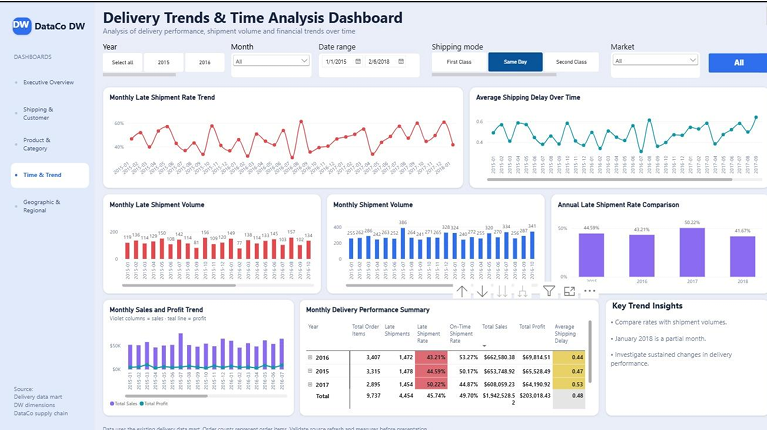

The dashboard page shown, as its layout file describes it:
{"tool":"powerbi","page":{"name":"Time & Trend","canvas":[1920,1080],"ordinal":3},"visuals":[{"type":"textbox","box":[0,0,240,1080],"z":0},{"type":"textbox","box":[38,44,48,45],"z":1000},{"type":"textbox","box":[92,48,136,42],"z":2000},{"type":"textbox","box":[42,130,180,30],"z":3000},{"type":"textbox","box":[42,944,174,95],"z":4000},{"type":"textbox","box":[260,18,1640,46],"z":5000},{"type":"textbox","box":[260,65,1640,25],"z":6000},{"type":"textbox","box":[260,1045,1640,24],"z":7000},{"type":"lineChart","title":"Monthly Late Shipment Rate Trend","fields":{"Category":["DW DimDate.Year Month"],"Y":["DM FactDeliveryPerformance.Late Shipment Rate"]},"box":[260.6,215.3,886.7,247.9],"z":13000},{"type":"lineChart","title":"Average Shipping Delay Over Time","fields":{"Category":["DW DimDate.Year Month"],"Y":["DM FactDeliveryPerformance.Average Shipping Delay"]},"box":[1161.8,215.3,738.3,247.9],"z":14000},{"type":"clusteredColumnChart","title":"Monthly Late Shipment Volume","fields":{"Category":["DW DimDate.Year Month"],"Y":["DM FactDeliveryPerformance.Late Shipments"]},"box":[260.6,477.8,537,245],"z":15000},{"type":"clusteredColumnChart","title":"Monthly Shipment Volume","fields":{"Category":["DW DimDate.Year Month"],"Y":["DM FactDeliveryPerformance.Total Order Items"]},"box":[810.7,477.8,537,245],"z":16000},{"type":"columnChart","title":"Annual Late Shipment Rate Comparison","fields":{"Category":["DW DimDate.Year"],"Y":["DM FactDeliveryPerformance.Late Shipment Rate"]},"box":[1362.7,477.8,538,245],"z":17000},{"type":"lineClusteredColumnComboChart","title":"Monthly Sales and Profit Trend","fields":{"Category":["DW DimDate.Year Month"],"Y":["DM FactDeliveryPerformance.Total Sales"],"Y2":["DM FactDeliveryPerformance.Total Profit"]},"box":[260.6,736.5,470.5,285.9],"z":18000},{"type":"pivotTable","title":"Monthly Delivery Performance Summary","fields":{"Rows":["DW DimDate.Year","DW DimDate.Year Month"],"Values":["DM FactDeliveryPerformance.Total Order Items","DM FactDeliveryPerformance.Late Shipments","DM FactDeliveryPerformance.Late Shipment Rate","DM FactDeliveryPerformance.On-Time Shipment Rate","DM FactDeliveryPerformance.Total Sales","DM FactDeliveryPerformance.Total Profit","DM FactDeliveryPerformance.Average Shipping Delay"]},"box":[743.8,736.5,736.5,285.9],"z":19000},{"type":"textbox","box":[1496.6,736.5,403.6,285.9],"z":20000},{"type":"textbox","box":[1509.3,780,372.8,231.6],"z":21000},{"type":"textbox","box":[34,402,192,61],"z":22000},{"type":"textbox","box":[65,191,165,48],"z":23000},{"type":"textbox","box":[65,258,165,48],"z":24000},{"type":"textbox","box":[65,334,165,48],"z":25000},{"type":"textbox","box":[65,419,165,48],"z":26000},{"type":"textbox","box":[65,486,165,48],"z":27000},{"type":"textbox","box":[44,420,22,28],"z":28000},{"type":"textbox","box":[44,496,22,28],"z":29000},{"type":"textbox","box":[44,268,22,28],"z":30000},{"type":"textbox","box":[44,344,22,28],"z":31000},{"type":"textbox","box":[44,192,22,28],"z":32000},{"type":"actionButton","box":[34,174,192,61],"z":33000},{"type":"actionButton","box":[34,250,192,61],"z":34000},{"type":"actionButton","box":[34,326,192,61],"z":35000},{"type":"actionButton","box":[34,402,192,61],"z":36000},{"type":"actionButton","box":[34,478,192,61],"z":37000},{"type":"textbox","box":[1509.3,103.2,220.8,27.1],"z":38000},{"type":"textbox","box":[260.6,103.2,126.7,27.1],"z":39000},{"type":"textbox","box":[790.8,103.2,278.7,29],"z":40000},{"type":"textbox","box":[1069.5,103.2,293.2,27.1],"z":41000},{"type":"textbox","box":[575.5,103.2,199.1,27.1],"z":42000},{"type":"slicer","fields":{"Values":["DW DimDate.Year Month"]},"box":[575.5,130.3,199.1,61.5],"z":43000},{"type":"slicer","fields":{"Values":["DW DimLocation.Market"]},"box":[1509.3,128.5,220.8,65.1],"z":44000},{"type":"advancedSlicerVisual","fields":{"Values":["DW DimShipping.Shipping_Mode"]},"box":[1069.5,130.3,410,60],"z":45000},{"type":"slicer","fields":{"Values":["DW DimDate.FullDate"]},"box":[790.8,132.1,249.7,59.7],"z":46000},{"type":"advancedSlicerVisual","fields":{"Values":["DW DimDate.Year"]},"box":[260.6,132.1,300.4,59.7],"z":47000},{"type":"actionButton","box":[1749.9,132.1,150,48],"z":48000}]}

Visuals, with their boxes on the page's 1920x1080 design canvas (x1, y1, x2, y2). These are canvas units, not pixel positions in the 767x430 screenshot, which may show the page scaled, cropped or inside an application window:
textbox: bbox=(0, 0, 240, 1080)
textbox: bbox=(38, 44, 86, 89)
textbox: bbox=(92, 48, 228, 90)
textbox: bbox=(42, 130, 222, 160)
textbox: bbox=(42, 944, 216, 1039)
textbox: bbox=(260, 18, 1900, 64)
textbox: bbox=(260, 65, 1900, 90)
textbox: bbox=(260, 1045, 1900, 1069)
"Monthly Late Shipment Rate Trend" lineChart: bbox=(261, 215, 1147, 463)
"Average Shipping Delay Over Time" lineChart: bbox=(1162, 215, 1900, 463)
"Monthly Late Shipment Volume" clusteredColumnChart: bbox=(261, 478, 798, 723)
"Monthly Shipment Volume" clusteredColumnChart: bbox=(811, 478, 1348, 723)
"Annual Late Shipment Rate Comparison" columnChart: bbox=(1363, 478, 1901, 723)
"Monthly Sales and Profit Trend" lineClusteredColumnComboChart: bbox=(261, 736, 731, 1022)
"Monthly Delivery Performance Summary" pivotTable: bbox=(744, 736, 1480, 1022)
textbox: bbox=(1497, 736, 1900, 1022)
textbox: bbox=(1509, 780, 1882, 1012)
textbox: bbox=(34, 402, 226, 463)
textbox: bbox=(65, 191, 230, 239)
textbox: bbox=(65, 258, 230, 306)
textbox: bbox=(65, 334, 230, 382)
textbox: bbox=(65, 419, 230, 467)
textbox: bbox=(65, 486, 230, 534)
textbox: bbox=(44, 420, 66, 448)
textbox: bbox=(44, 496, 66, 524)
textbox: bbox=(44, 268, 66, 296)
textbox: bbox=(44, 344, 66, 372)
textbox: bbox=(44, 192, 66, 220)
actionButton: bbox=(34, 174, 226, 235)
actionButton: bbox=(34, 250, 226, 311)
actionButton: bbox=(34, 326, 226, 387)
actionButton: bbox=(34, 402, 226, 463)
actionButton: bbox=(34, 478, 226, 539)
textbox: bbox=(1509, 103, 1730, 130)
textbox: bbox=(261, 103, 387, 130)
textbox: bbox=(791, 103, 1070, 132)
textbox: bbox=(1070, 103, 1363, 130)
textbox: bbox=(576, 103, 775, 130)
slicer - DW DimDate.Year Month: bbox=(576, 130, 775, 192)
slicer - DW DimLocation.Market: bbox=(1509, 128, 1730, 194)
advancedSlicerVisual - DW DimShipping.Shipping_Mode: bbox=(1070, 130, 1480, 190)
slicer - DW DimDate.FullDate: bbox=(791, 132, 1040, 192)
advancedSlicerVisual - DW DimDate.Year: bbox=(261, 132, 561, 192)
actionButton: bbox=(1750, 132, 1900, 180)
